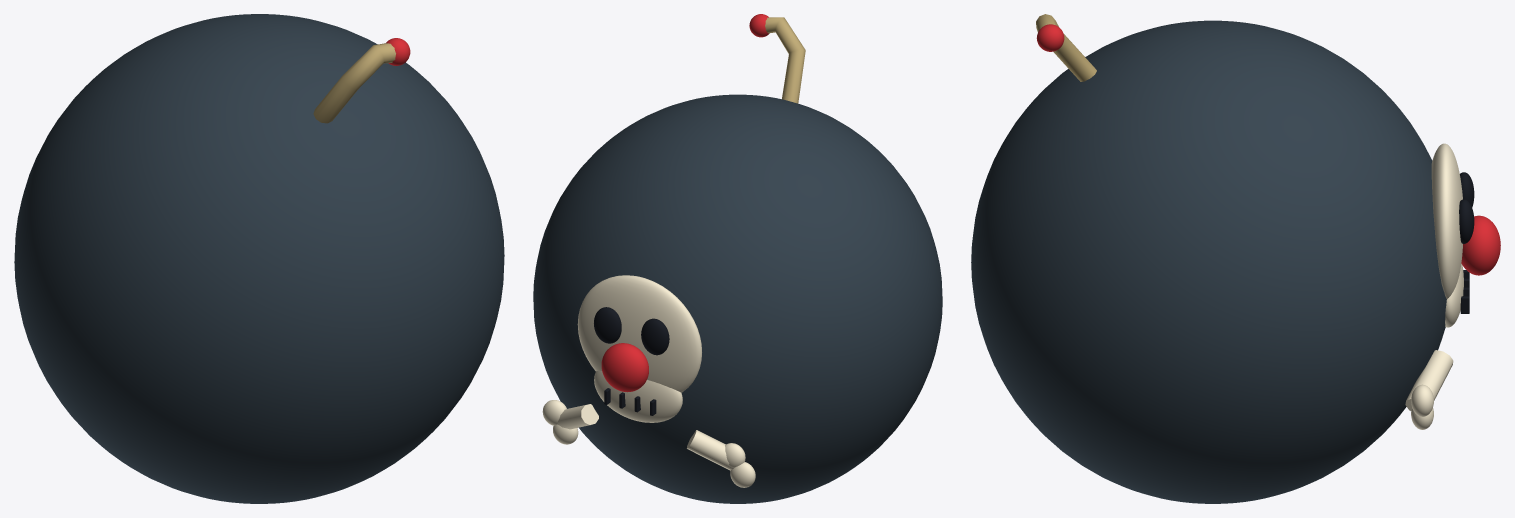
The model's file is buggy_ball.glb.
3 views of the same model, side by side, from view 1: azimuth 30°, elevation 25°; view 2: azimuth 150°, elevation 25°; view 3: azimuth 270°, elevation 25° (orthographic). The views are drawn at different scales.
Parts seen in each view (by area): view 1: BuggyBall; view 2: BuggyBall; view 3: BuggyBall.
Boxes of the visible parts, x1=… form: BuggyBall: x1=14, y1=14, x2=504, y2=503; BuggyBall: x1=533, y1=14, x2=942, y2=503; BuggyBall: x1=971, y1=14, x2=1500, y2=503.
Bounding box in the file's own units: 0.42 × 0.4626 × 0.46.
